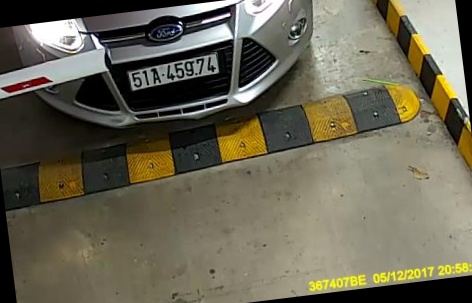plate: (121, 55, 226, 100)
